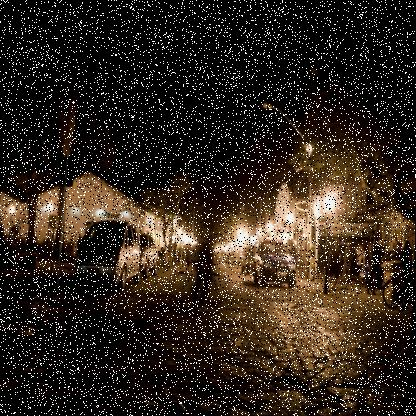Car: (75, 216, 140, 286), (253, 240, 296, 285), (136, 234, 160, 278), (240, 248, 258, 276)
